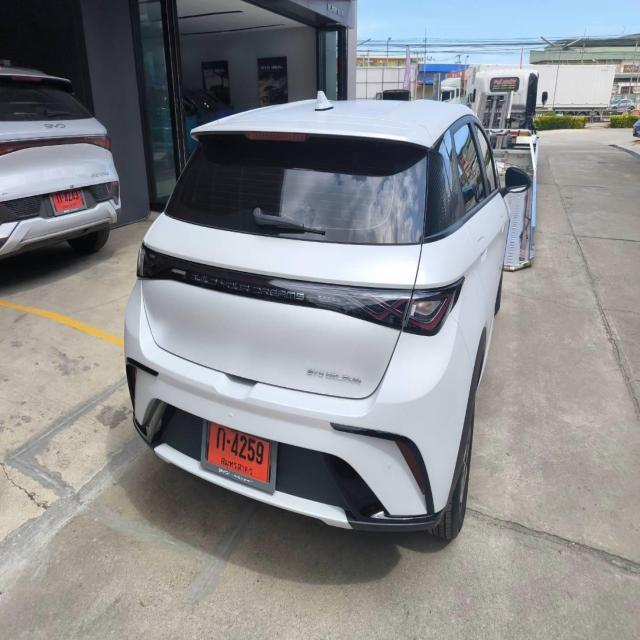Hatchback: (124, 94, 508, 547)
